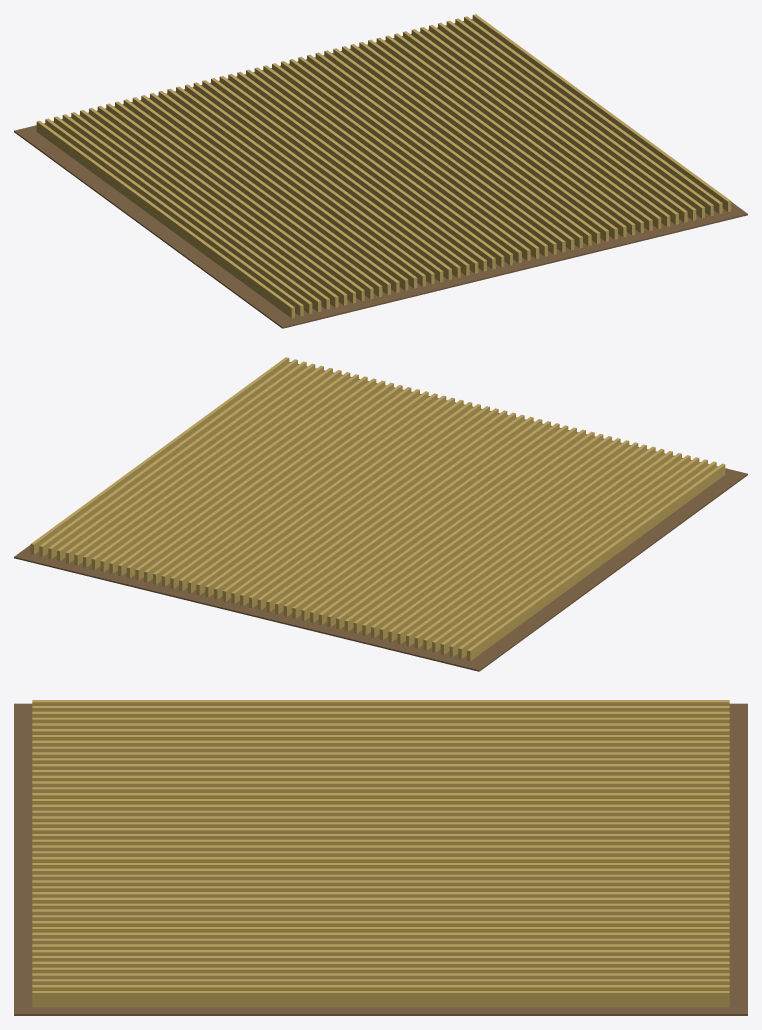
Rendered from cultivation.glb.
3 renders of one model, top to bottom at view 1: azimuth 30°, elevation 25°; view 2: azimuth 150°, elevation 25°; view 3: azimuth 270°, elevation 25°, orthographic. The views are drawn at different scales.
Visible parts, largest first — view 1: cultivation; view 2: cultivation; view 3: cultivation.
Part boxes in pixels (bbox=[...]): cultivation: bbox=[14, 14, 747, 328]; cultivation: bbox=[14, 357, 747, 671]; cultivation: bbox=[14, 700, 747, 1015].
Bounding box in the file's own units: 40 × 0.975 × 40.
